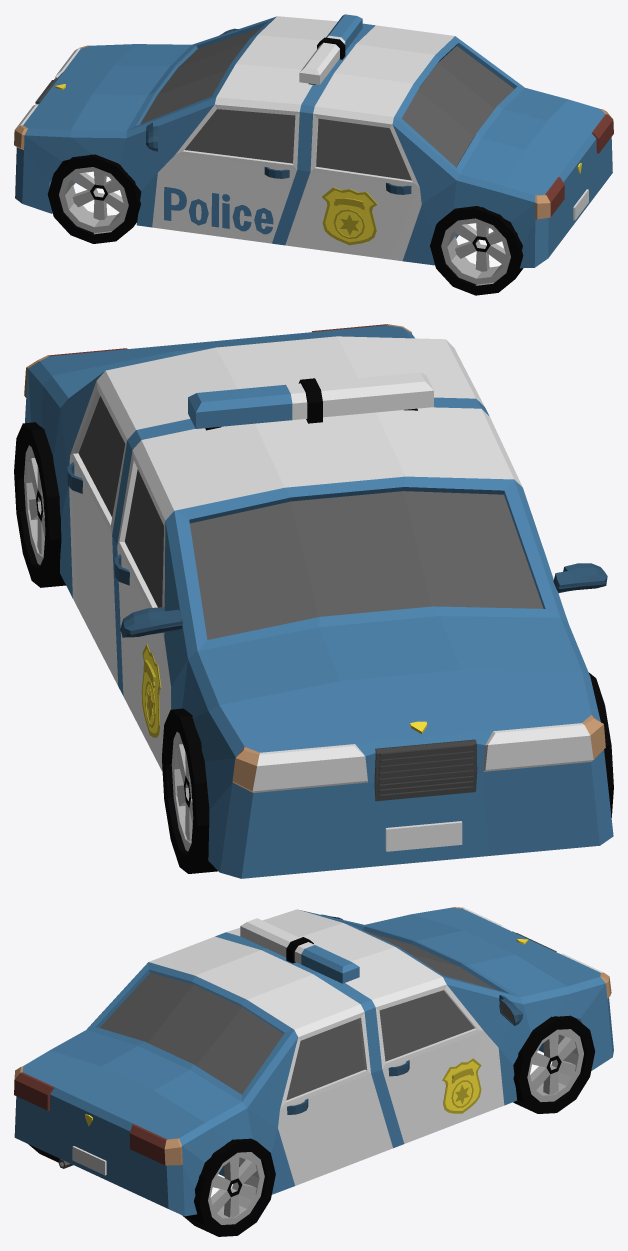
The model's file is Police Car.fbx.
3 renders of one model, top to bottom at view 1: azimuth 30°, elevation 25°; view 2: azimuth 150°, elevation 25°; view 3: azimuth 270°, elevation 25°, orthographic. The views are drawn at different scales.
Parts seen in each view (by area): view 1: Police Car; view 2: Police Car; view 3: Police Car.
Boxes of the visible parts, x1,y1,x2,y2 form: Police Car: [14, 14, 613, 295]; Police Car: [14, 324, 613, 878]; Police Car: [14, 907, 613, 1236].
Bounding box in the file's own units: 523 × 545 × 195.
